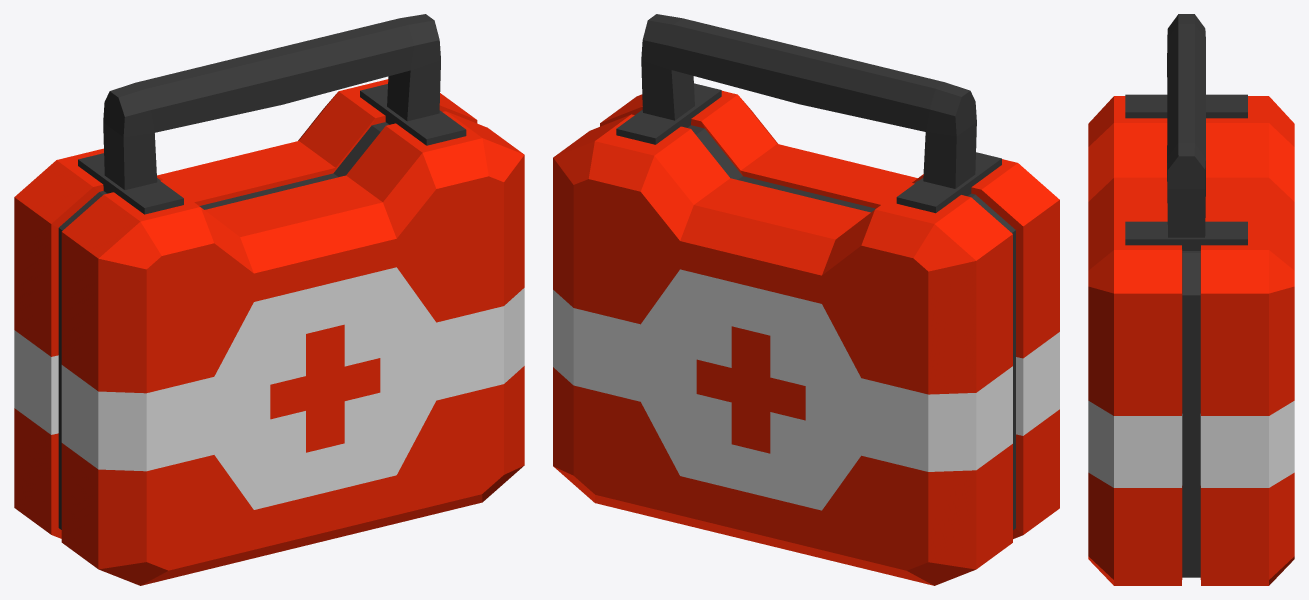
Rendered from Red-heal.glb.
3 views of the same model, side by side, from view 1: azimuth 30°, elevation 25°; view 2: azimuth 150°, elevation 25°; view 3: azimuth 270°, elevation 25° (orthographic). The views are drawn at different scales.
Parts seen in each view (by area): view 1: Pickup_Health; view 2: Pickup_Health; view 3: Pickup_Health.
Part boxes in pixels (left/top/right/bottom): Pickup_Health: left=14, top=14, right=524, bottom=585; Pickup_Health: left=553, top=14, right=1059, bottom=585; Pickup_Health: left=1088, top=14, right=1294, bottom=585.
Bounding box in the file's own units: 0.9694 × 1 × 0.4402.
Materials: 1 (1 with a texture image).
